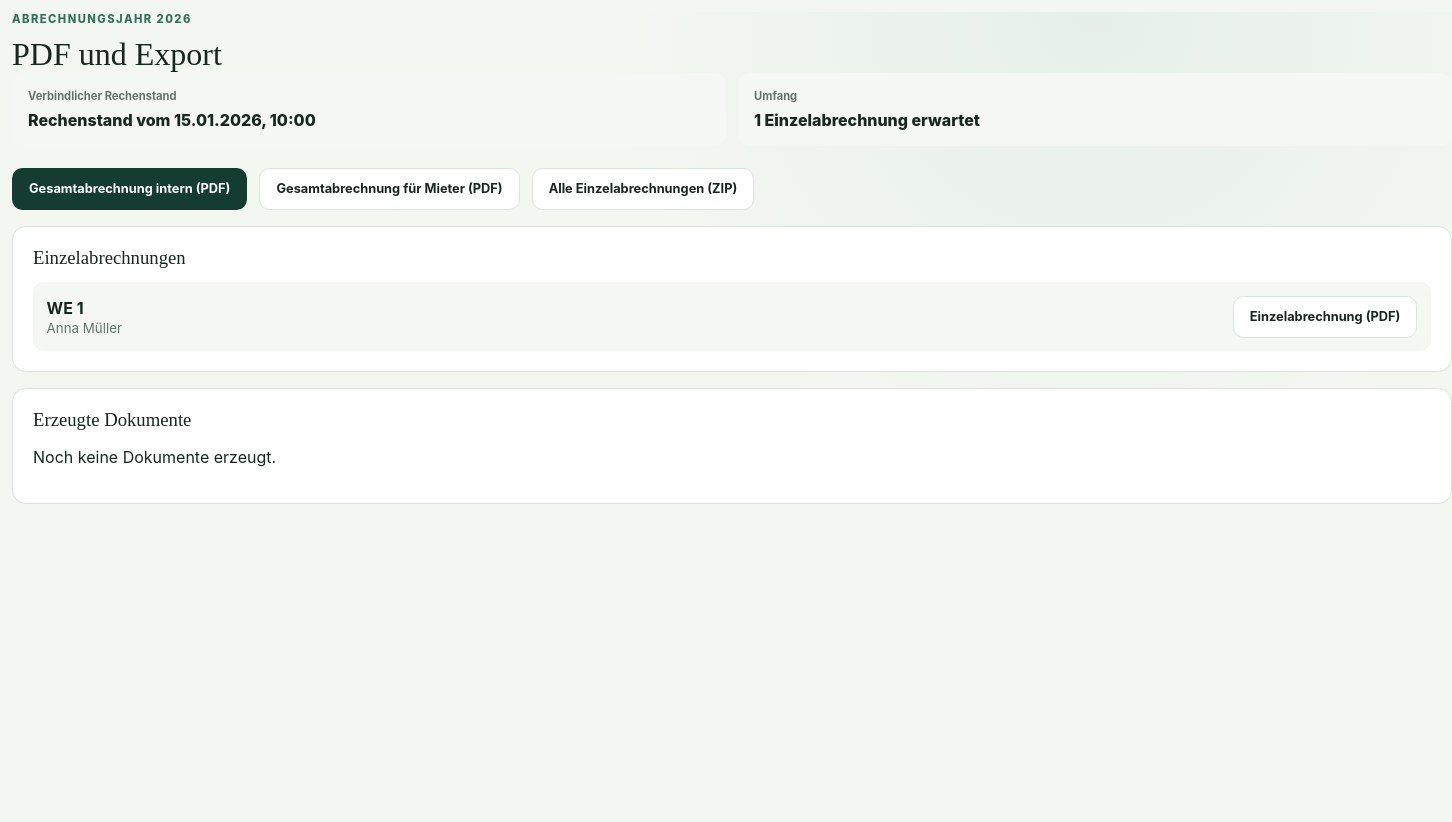
PdfExportRoute › zeigt einen Fehler ohne verwendbare Versandadresse
Step 1. Click the button "Einzelabrechnung (PDF)" → click(1325, 317), box [1233,296,1417,338]
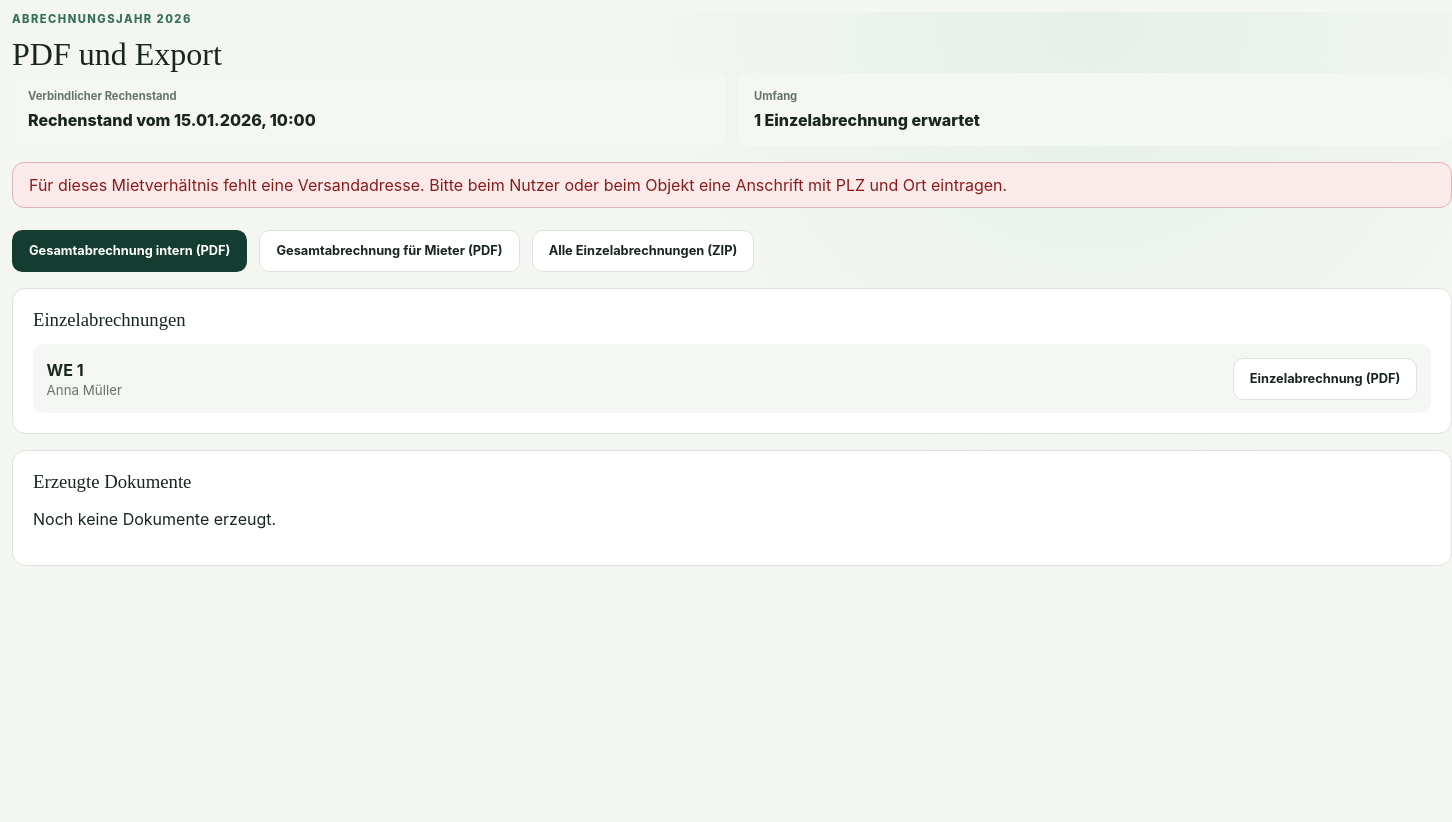
Check: the message shows "Versandadresse", box [29,175,1007,195]
